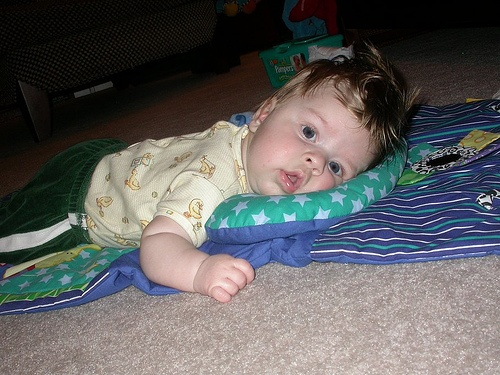head: (246, 54, 410, 196)
person: (8, 47, 416, 301)
